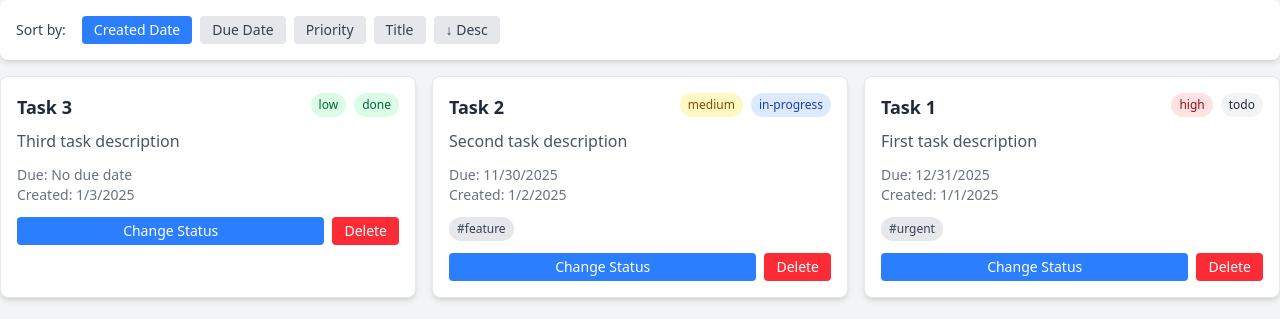
TaskList › Sorting › should display correct sort order button label
The image size is (1280, 319).
// Toggle to asc
Click the button with aria-label "toggle sort order" at (467, 30), box [434,16,500,44]
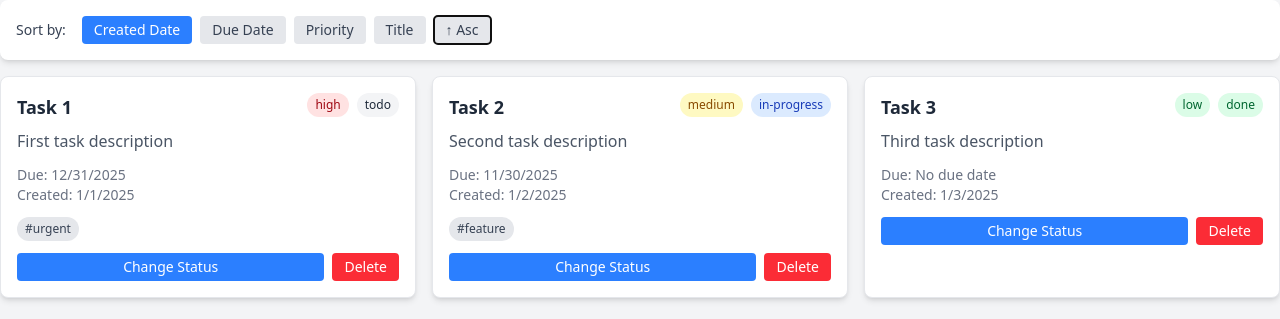
Expected: the button with aria-label "toggle sort order, currently ascending" reads "↑ Asc", [434,16,490,44]
